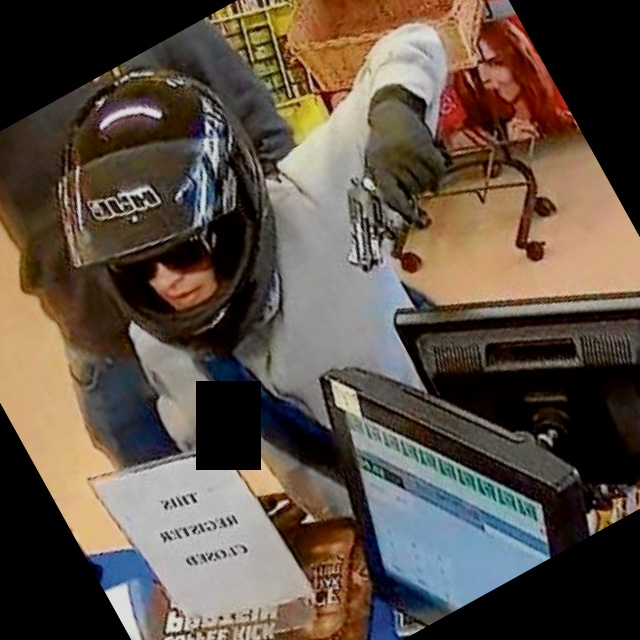gun: (298, 132, 456, 288)
